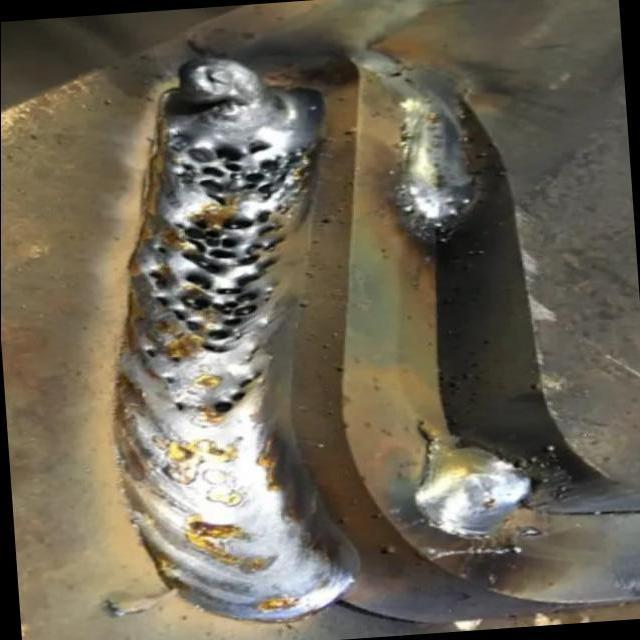defect: (138, 131, 324, 356), (206, 365, 269, 416), (168, 399, 194, 414), (143, 347, 159, 359), (160, 375, 178, 385), (169, 354, 183, 362)
